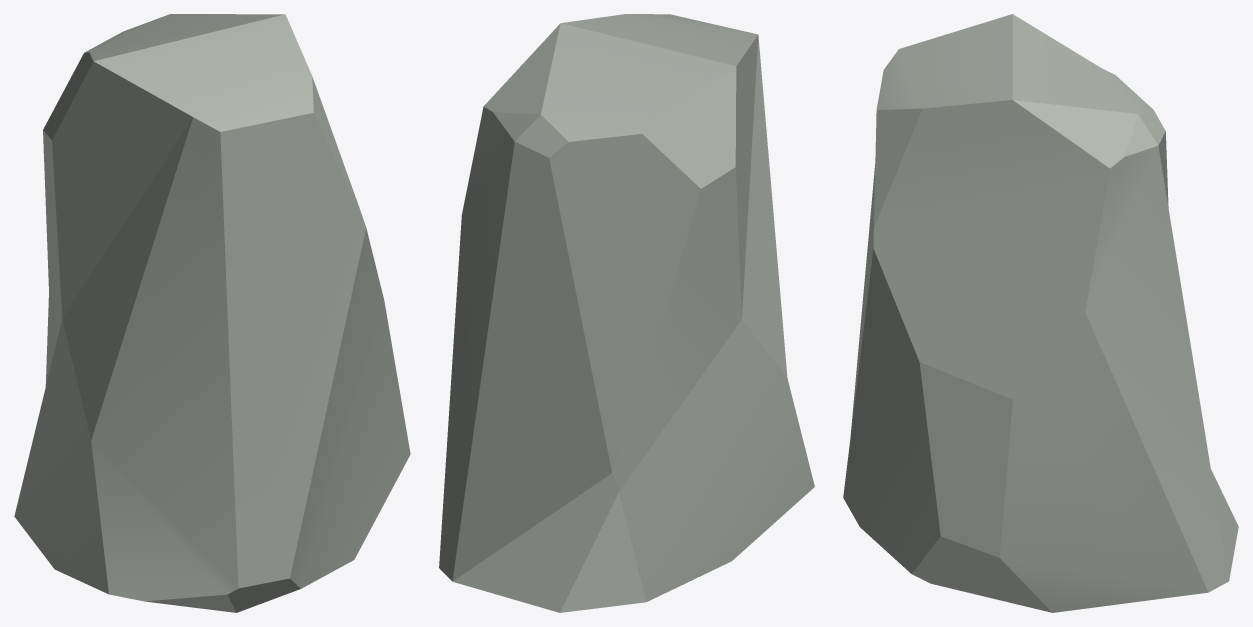
Rendered from dummy_cliff_1.fbx.
3 renders of one model, left to right at view 1: azimuth 30°, elevation 25°; view 2: azimuth 150°, elevation 25°; view 3: azimuth 270°, elevation 25°, orthographic. The views are drawn at different scales.
Visible parts, largest first — view 1: Rock.048; view 2: Rock.048; view 3: Rock.048.
Boxes of the visible parts, x1,y1,x2,y2 form: Rock.048: (14,14,410,612); Rock.048: (439,14,814,612); Rock.048: (843,14,1238,612).
Size of the model in its own units: 681 by 1024 by 762.
Materials: 1 (1 with a texture image).
